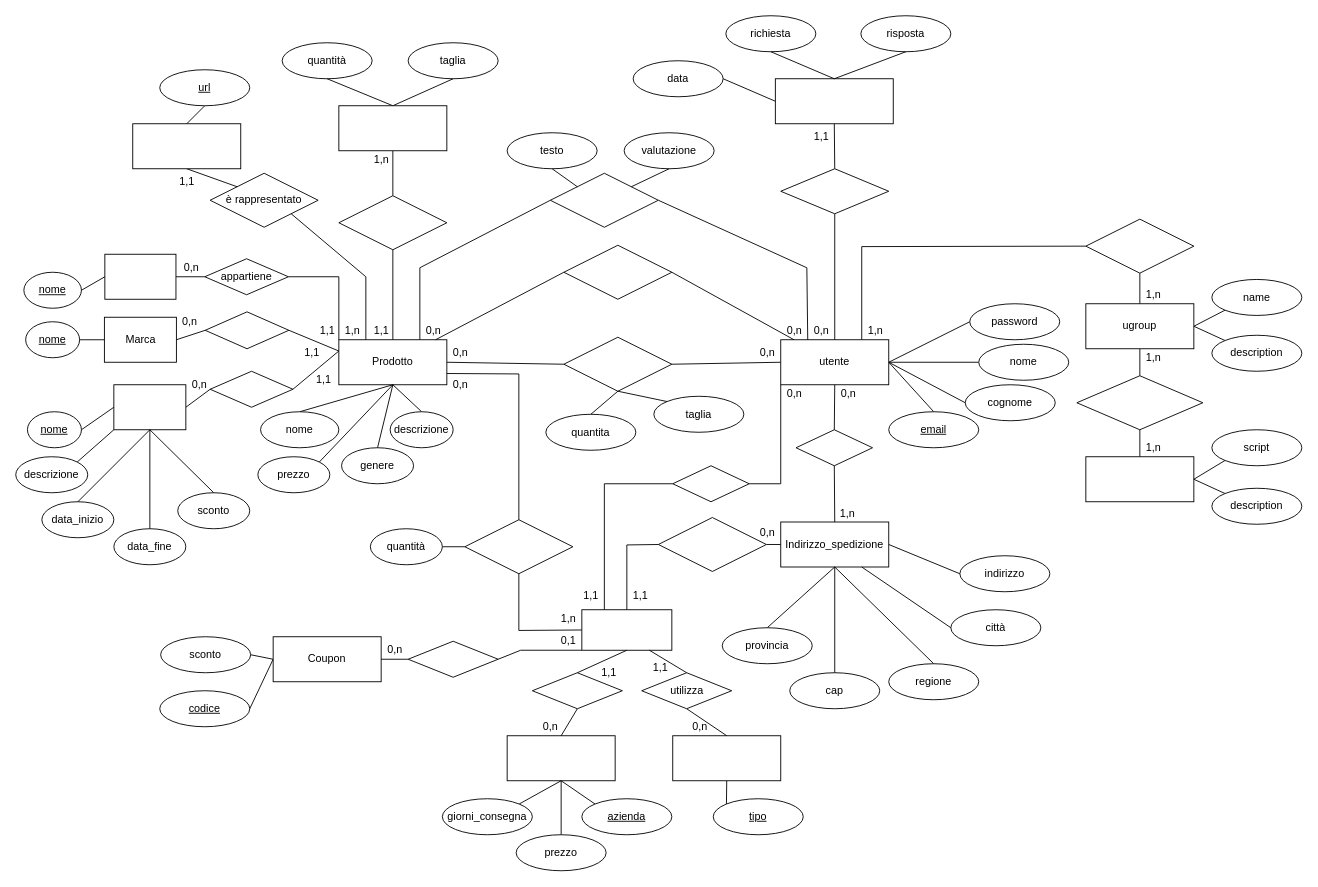
Some shapes in this 1318 by 887 pixel diagram are drawn without their labels. The box of each missing label's shape, as (x1, y1, x2, y2) in pixels:
Aggiunge ai preferiti: (563, 244, 672, 299)
asociato: (209, 370, 293, 407)
Categoria: (104, 253, 176, 299)
Corriere: (506, 735, 615, 781)
effettua: (672, 465, 749, 502)
fa parte: (464, 519, 573, 574)
fa riferimento: (657, 517, 766, 572)
immagine: (132, 123, 241, 169)
invia: (780, 168, 889, 214)
Magazzino: (338, 105, 447, 151)
Messaggio_Assistenza: (774, 78, 893, 124)
Metodo_Pagamento: (672, 735, 781, 781)
ordine: (581, 609, 672, 650)
Possiede: (795, 429, 873, 466)
Prenota_carrello: (563, 336, 672, 391)
promozione: (113, 384, 186, 430)
Recensice: (549, 172, 658, 227)
service: (1085, 456, 1194, 502)
si applica: (407, 640, 498, 677)
spedisce: (531, 672, 622, 709)
ugroup_has_service: (1076, 375, 1203, 430)
user_has_group: (1085, 218, 1194, 273)
è fornito: (204, 311, 289, 349)
è presente: (338, 195, 447, 250)
